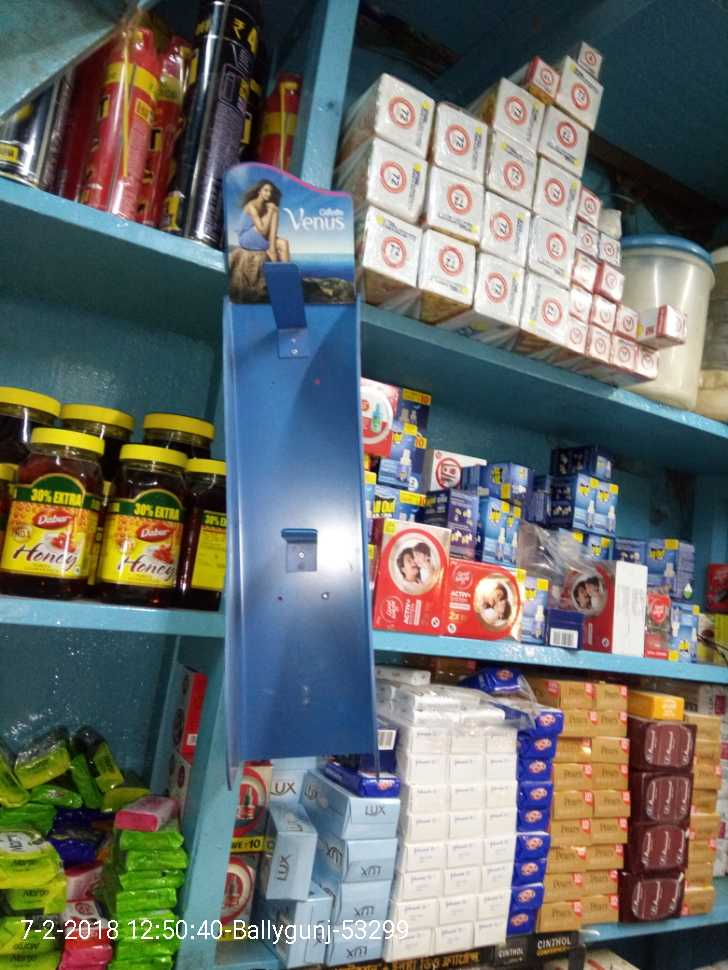reject: (358, 309, 454, 425)
